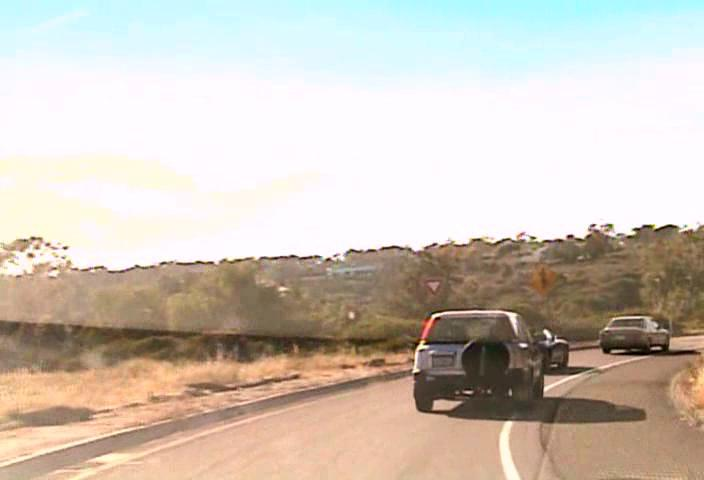yield: (423, 278, 443, 296)
